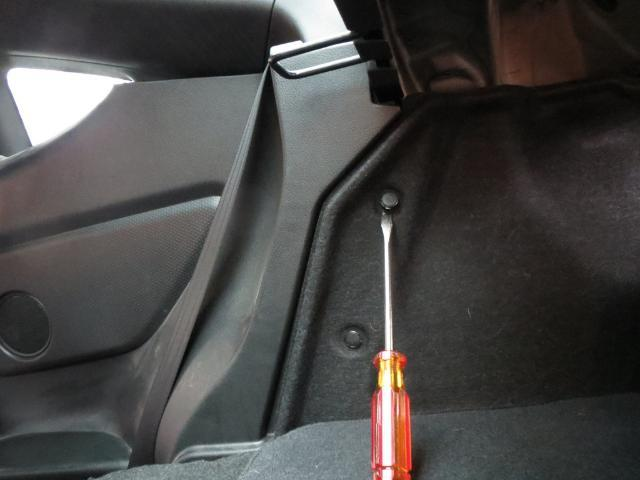Seatbelt: (128, 60, 270, 466)
